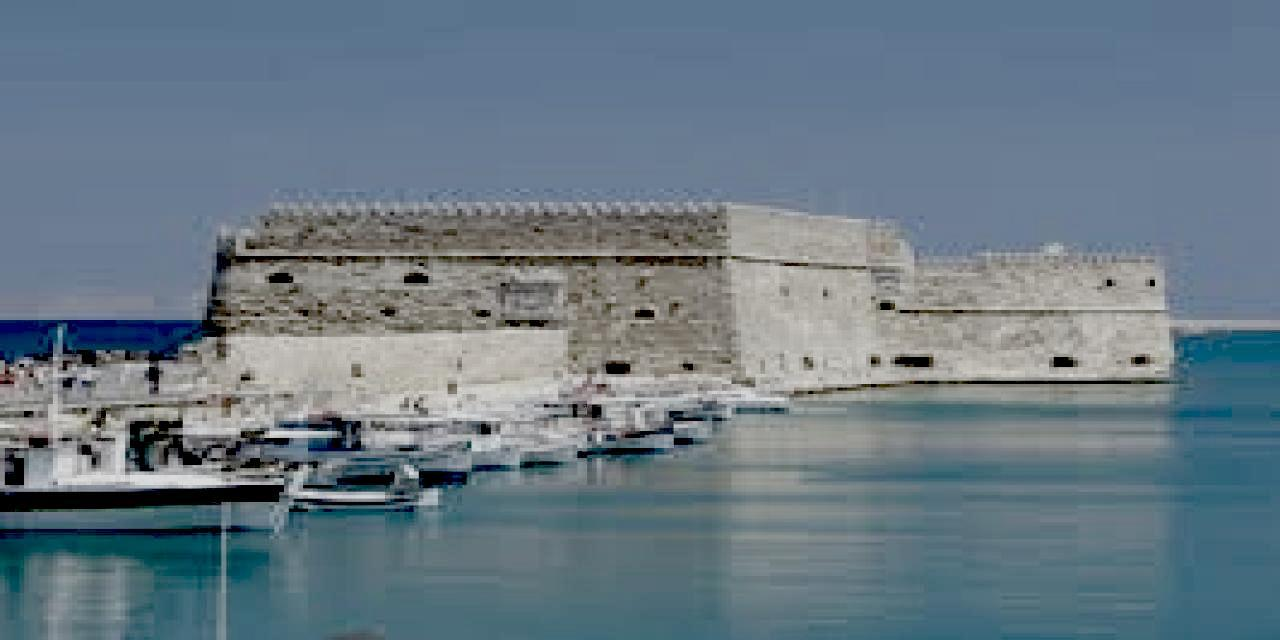Kules: (206, 191, 1179, 392)
